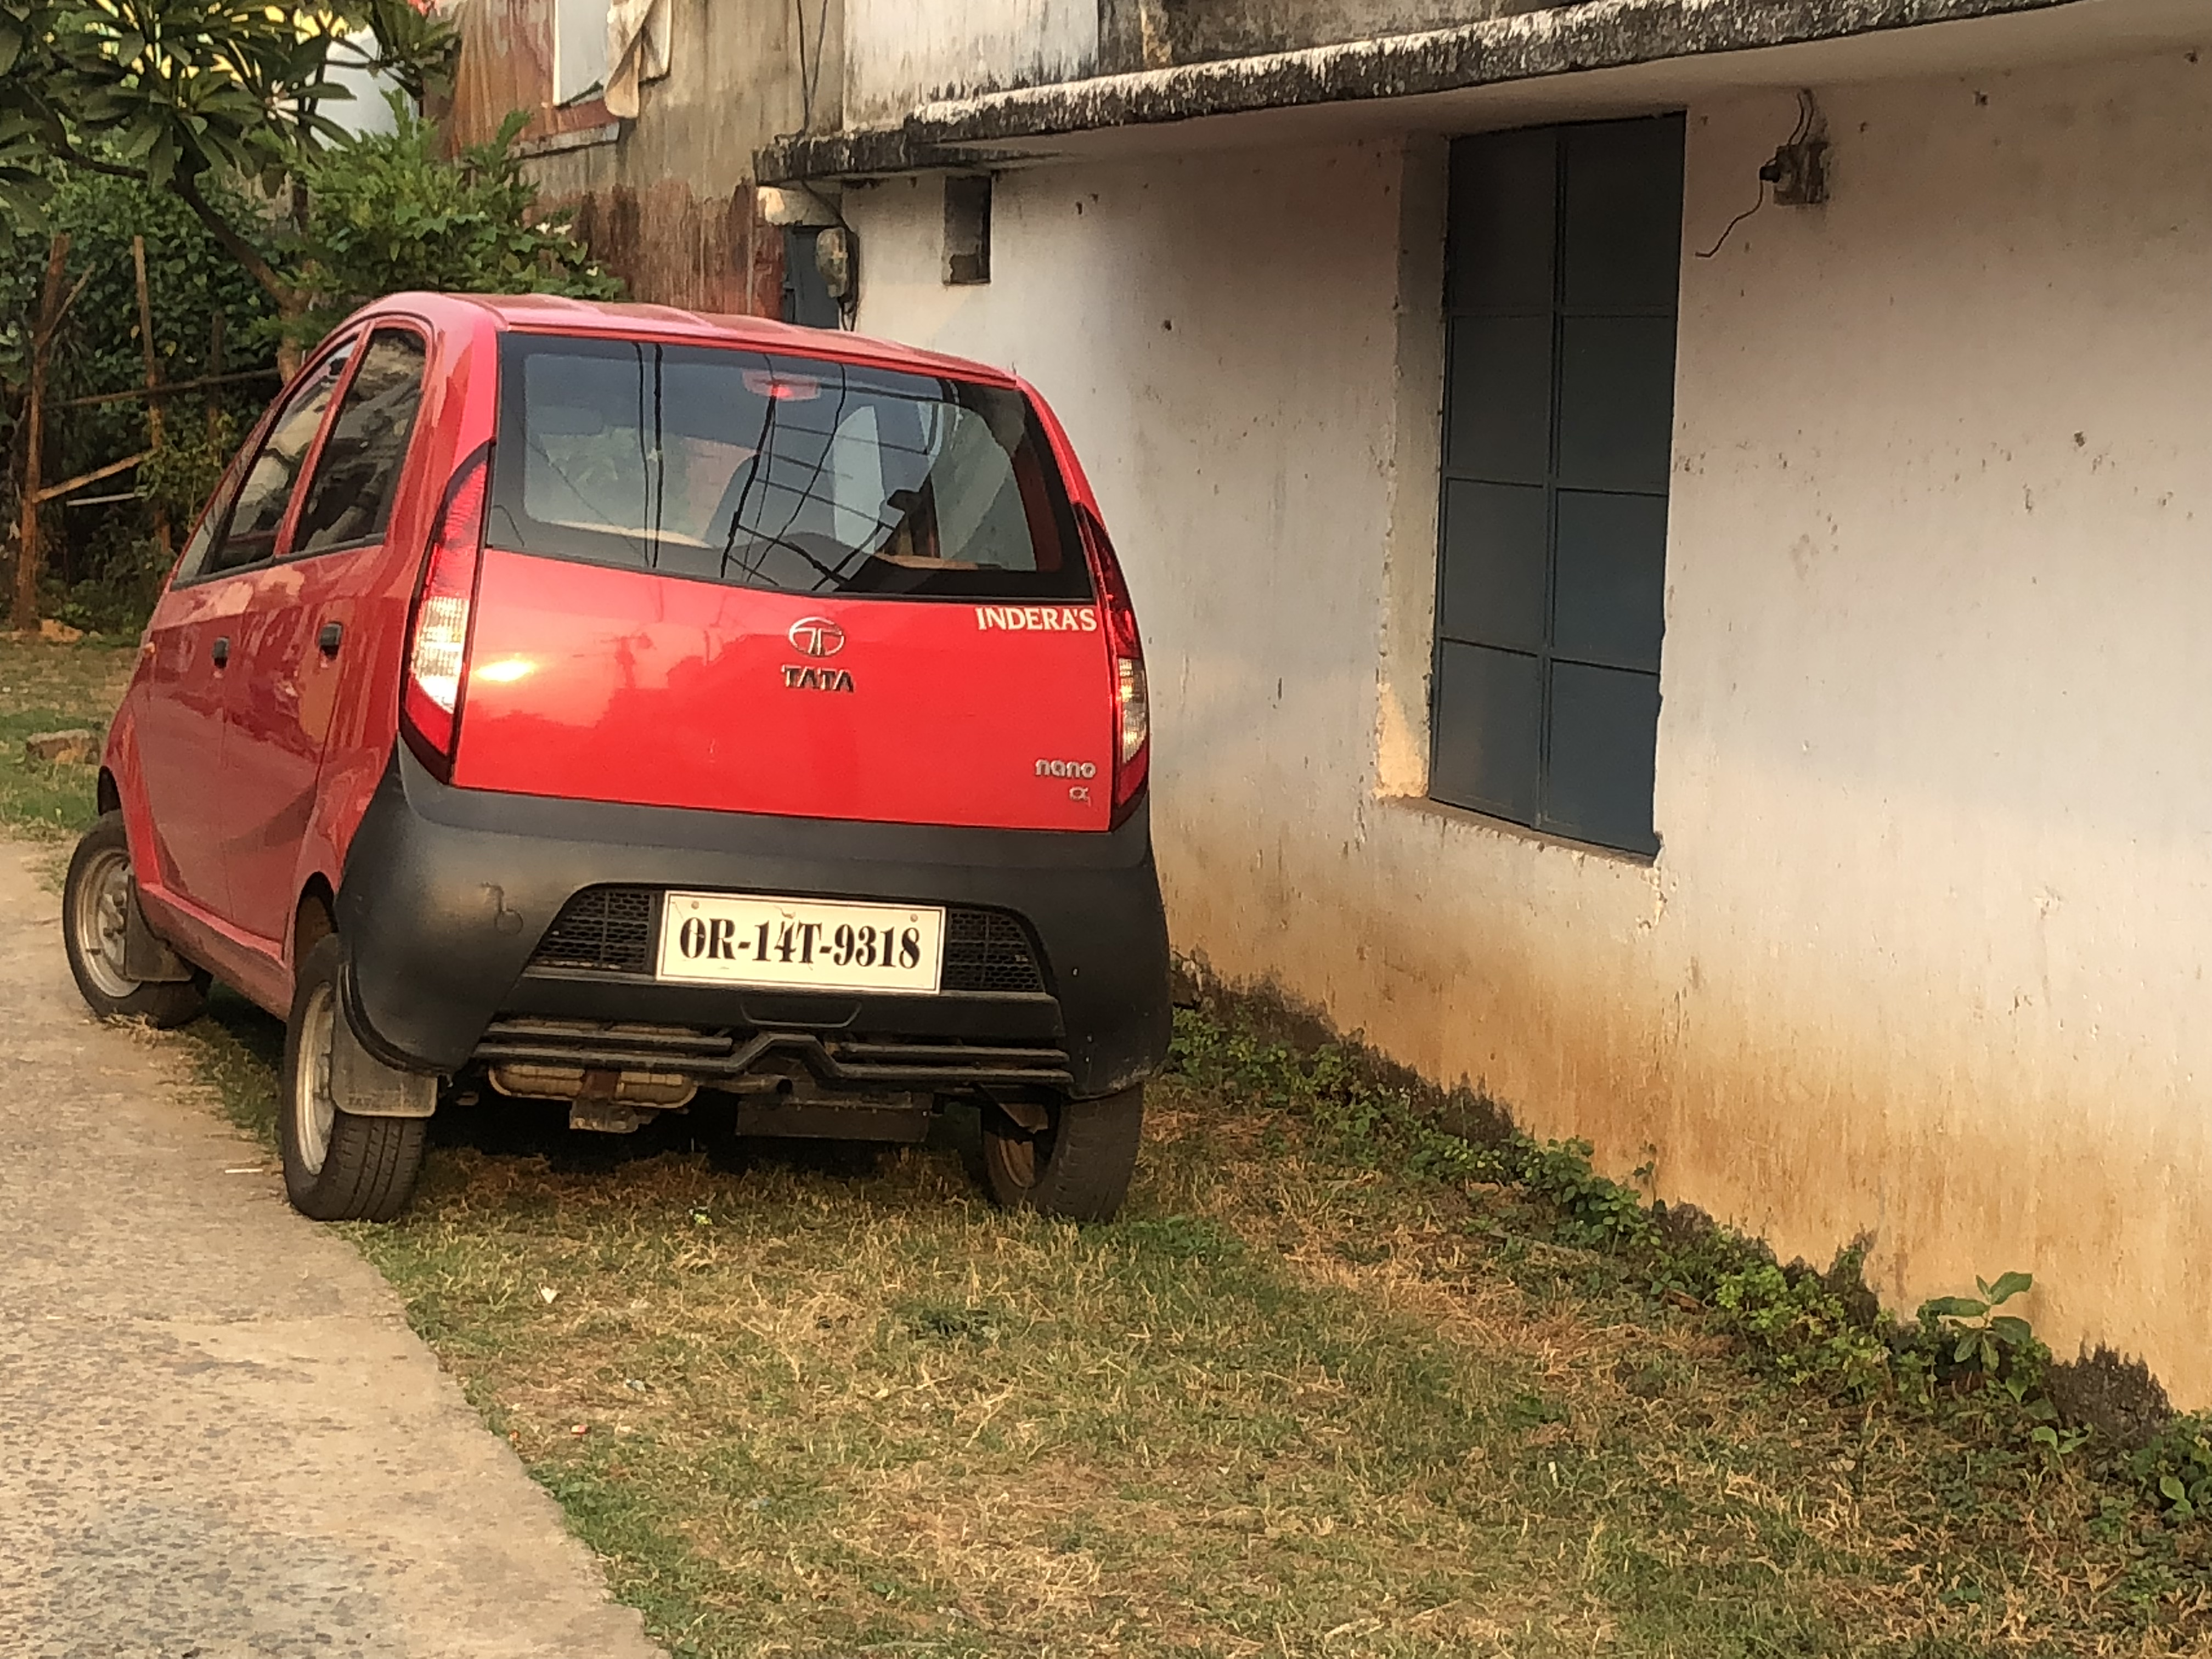licenseplate: (632, 878, 960, 1009)
